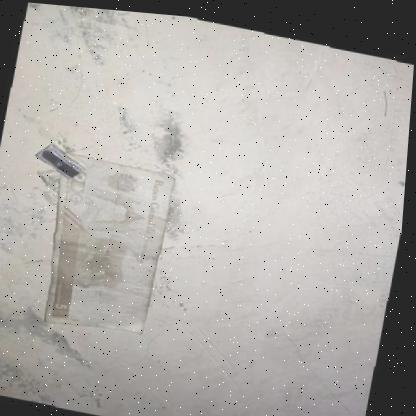five-back-vef: (37, 149, 179, 340)
